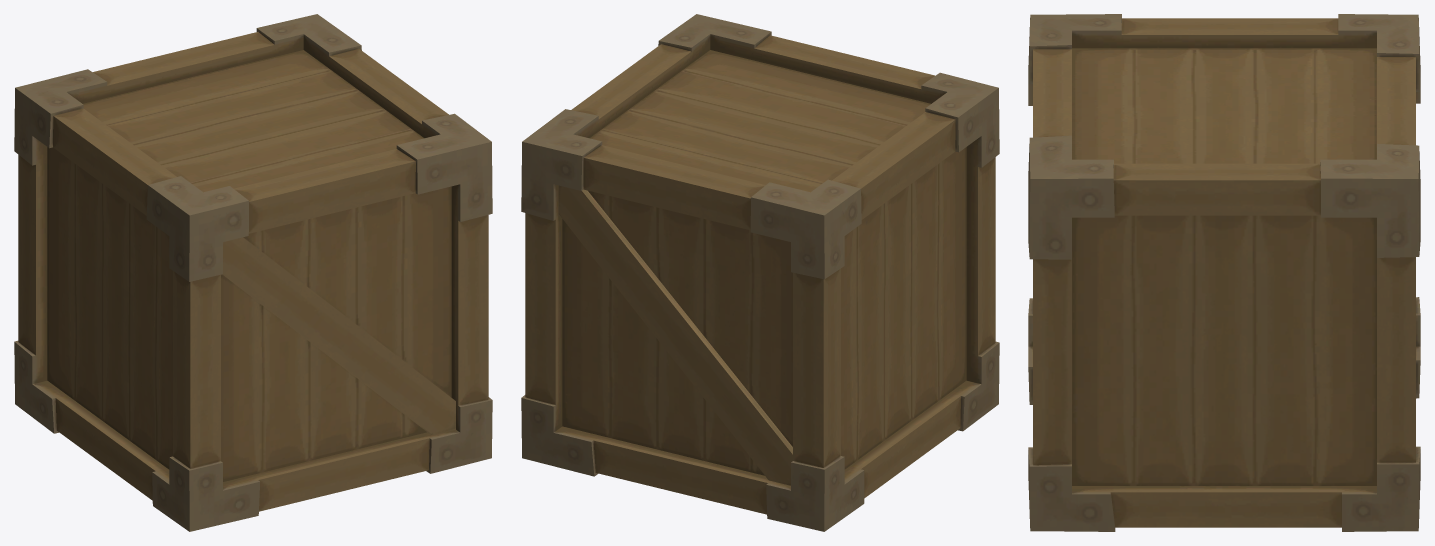
File: SM_wooden_box_01.glb
The picture shows the model from 3 angles, left to right: view 1: azimuth 30°, elevation 25°; view 2: azimuth 150°, elevation 25°; view 3: azimuth 270°, elevation 25°; orthographic projection. The views are drawn at different scales.
Parts seen in each view (by area): view 1: SM_wooden_box_01; view 2: SM_wooden_box_01; view 3: SM_wooden_box_01.
Part boxes in pixels (<box>): SM_wooden_box_01: <box>14,14,492,531</box>; SM_wooden_box_01: <box>521,14,999,531</box>; SM_wooden_box_01: <box>1028,14,1420,531</box>.
Size of the model in its own units: 0.7999 by 0.8001 by 0.7999.
Materials: 1 (1 with a texture image).
